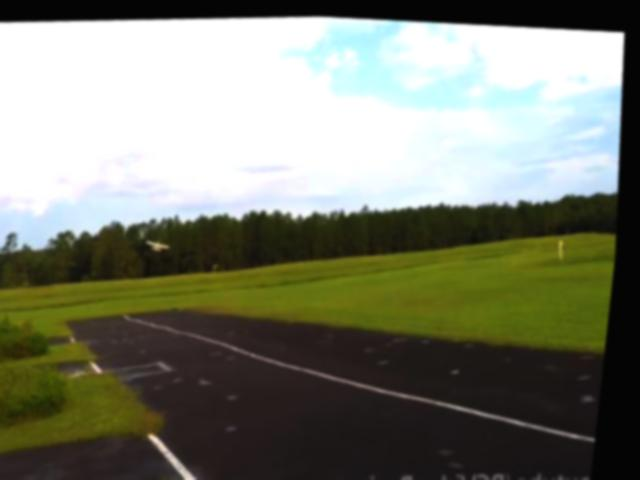uav: (145, 228, 181, 255)
